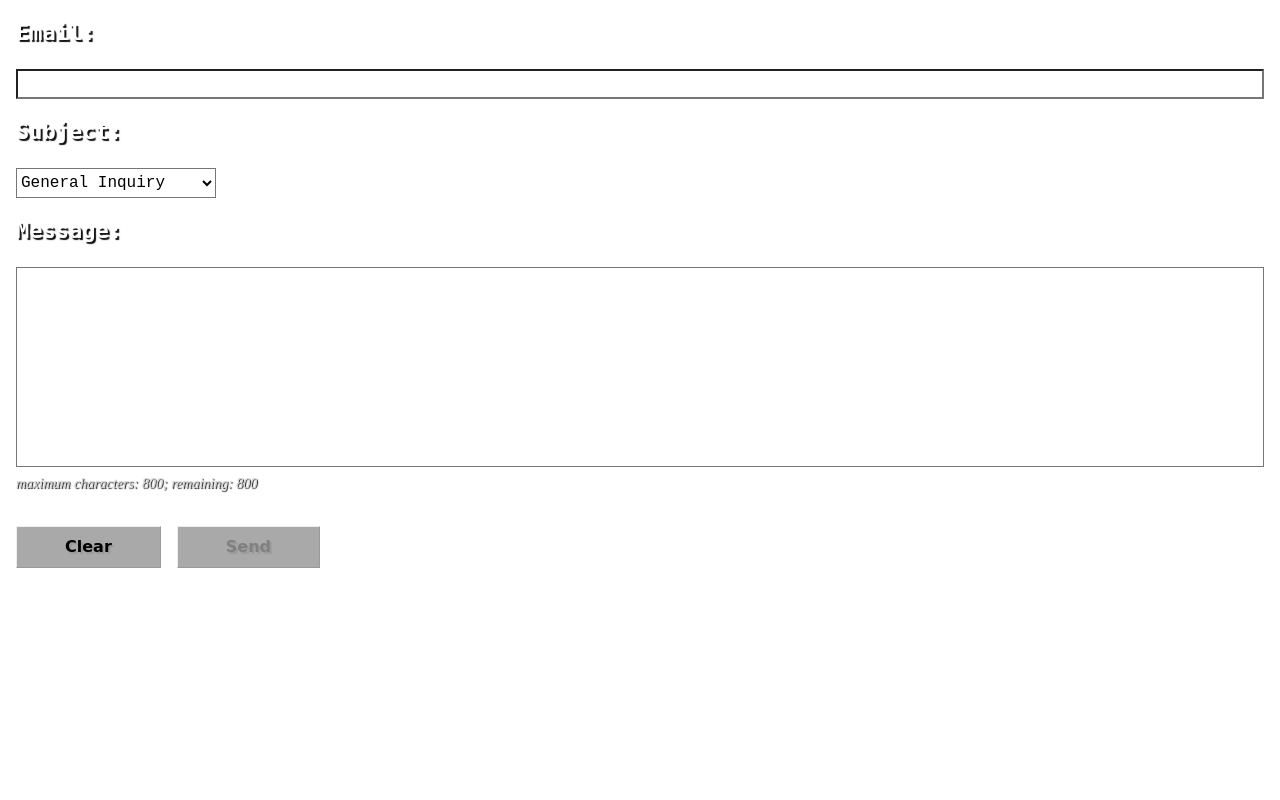
Test: ContactForm › should clear the form when the 'clear' button is pressed
The width and height of the screenshot is (1280, 800).
fill the form inputs
Type "macho macho man... I've got to be a macho man!" into the field labelled "Email".
click(640, 84); type("macho macho man... I've got to be a macho man!")  # box [16,69,1264,99]
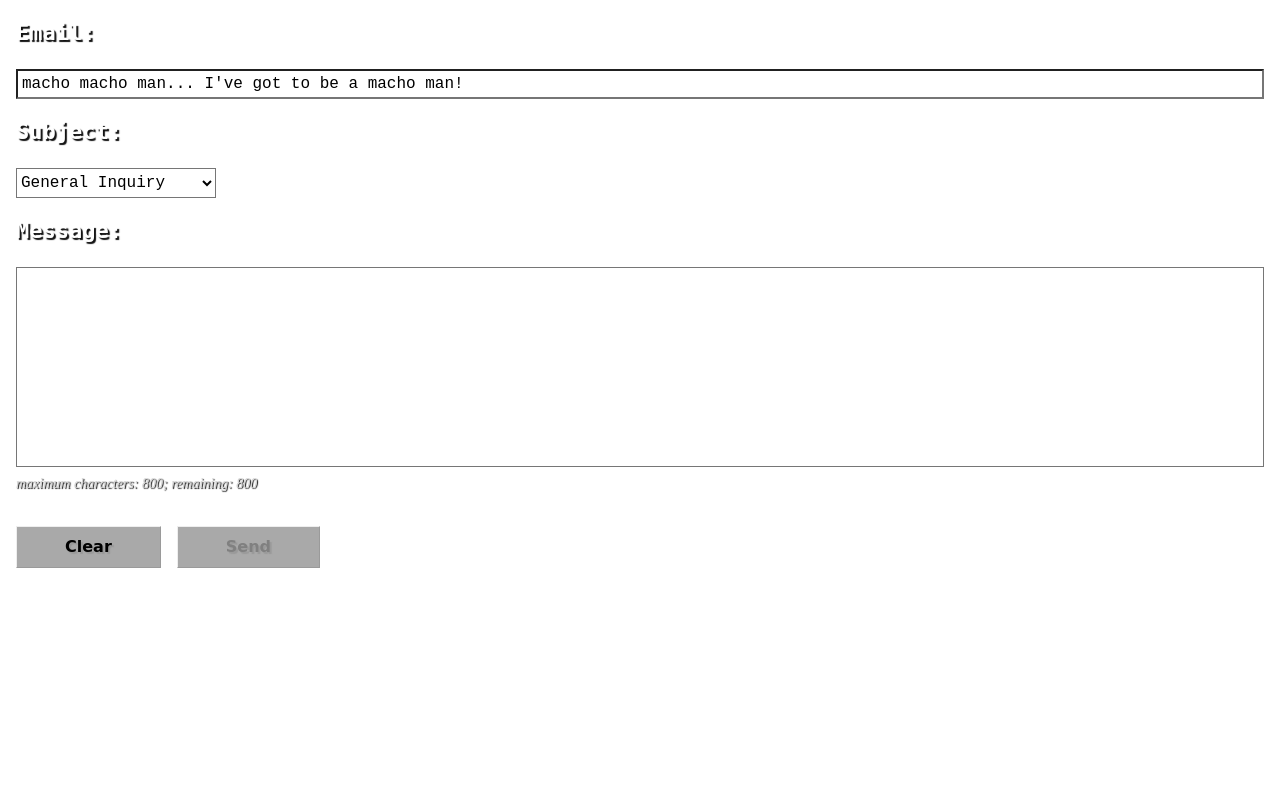
Select "Feedback" in the dropdown labelled "Subject" at [116, 183], box [16,168,216,198]
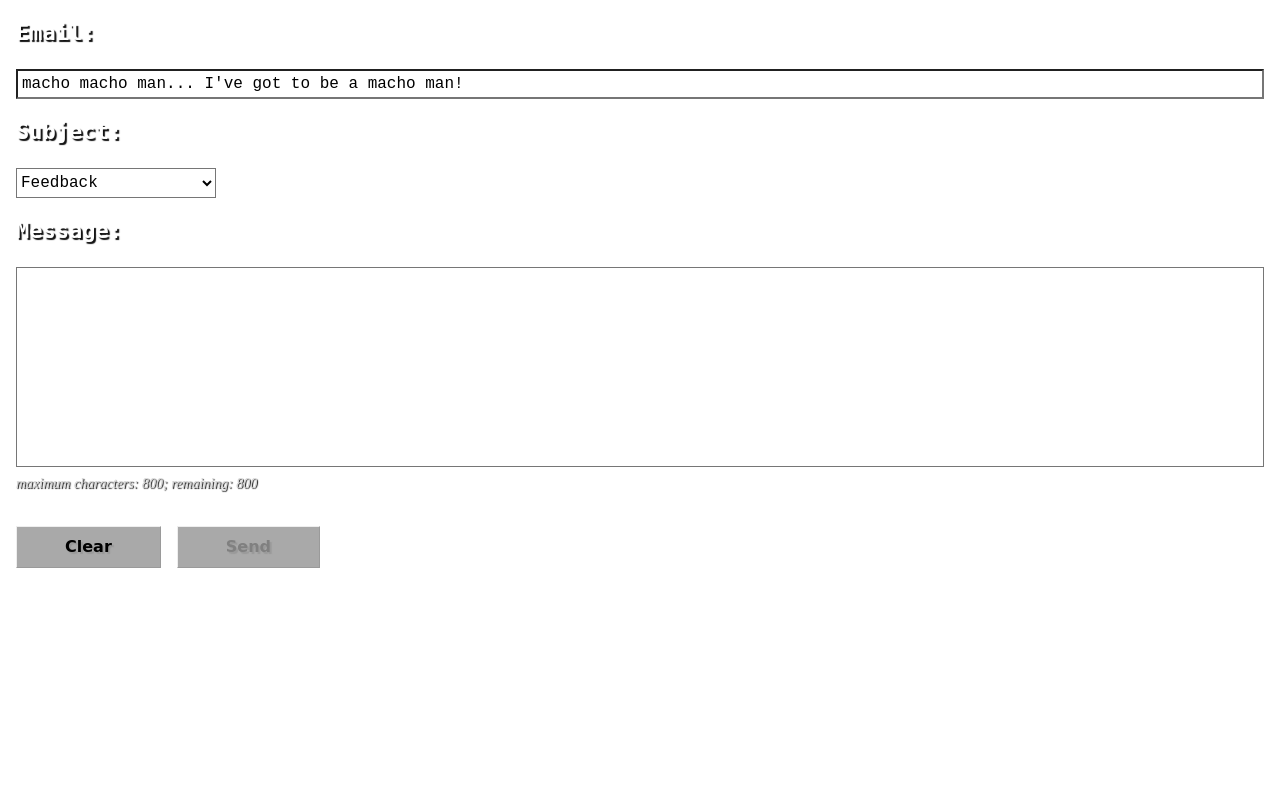
Type "macho macho man... I've got to be a macho man!" into the text box labelled "Message".
click(640, 367); type("macho macho man... I've got to be a macho man!")  # box [16,267,1264,467]
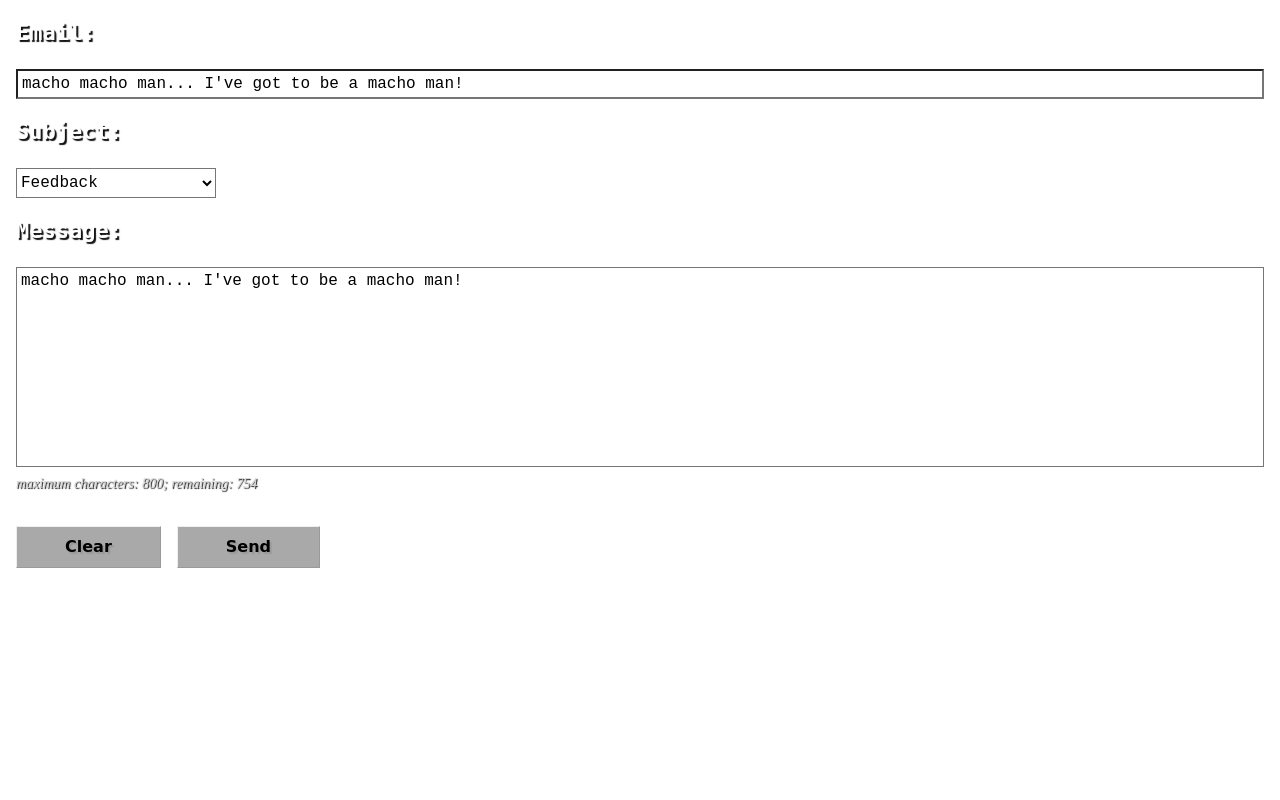
Click the button "Clear".
click(88, 547)  # box [16,526,161,568]
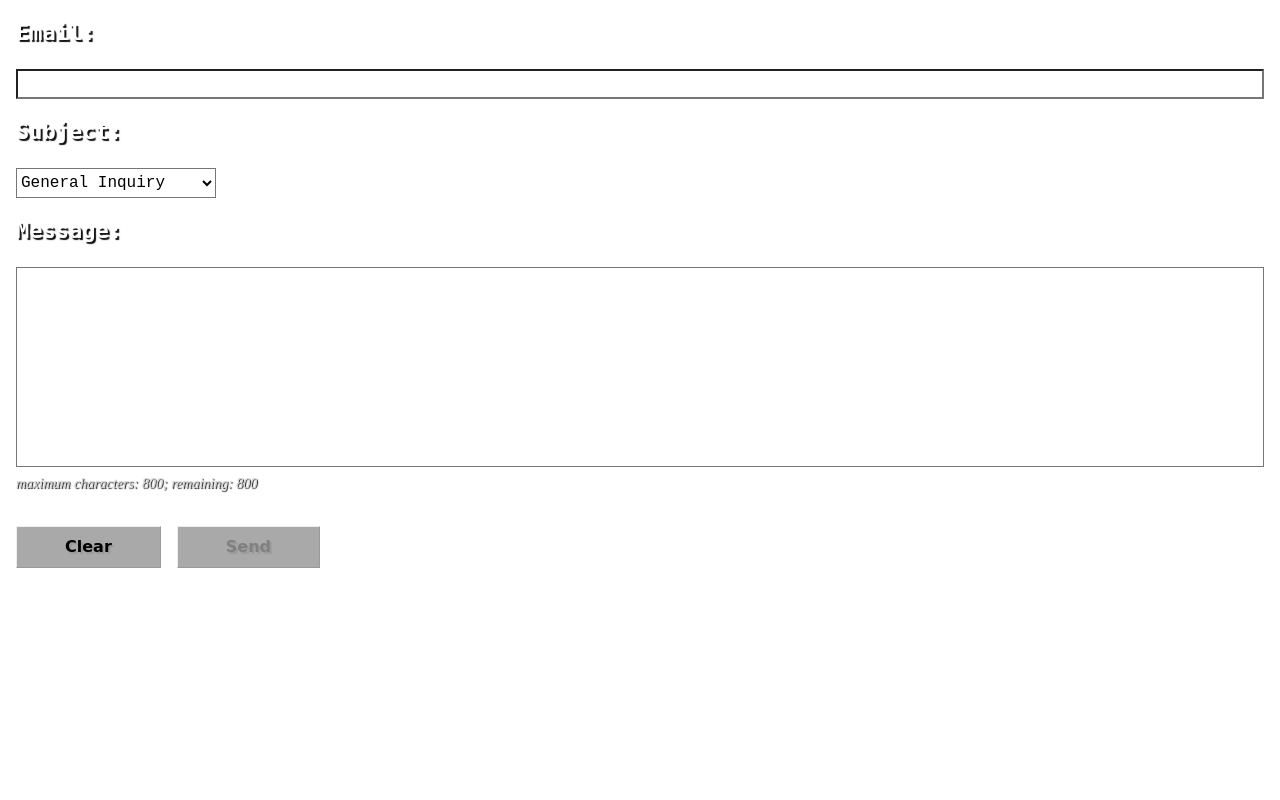
expect the field labelled "Email" is empty: met, box [16,69,1264,99]
expect the text box labelled "Message" is empty: met, box [16,267,1264,467]
